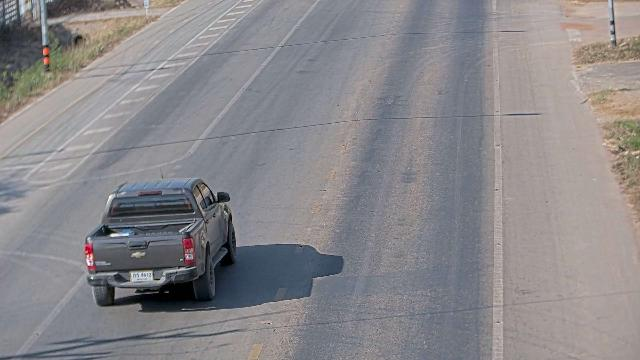pickup-truck: (83, 176, 237, 306)
